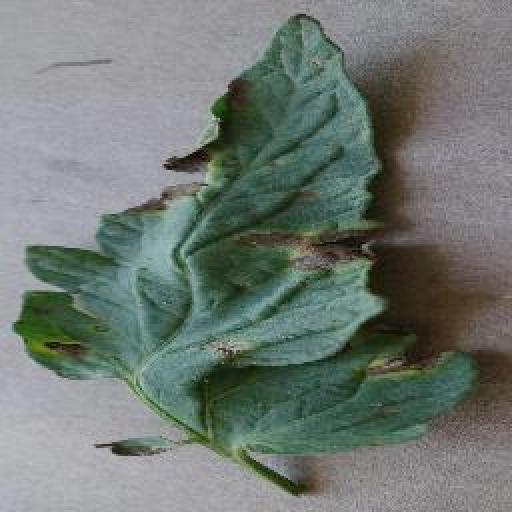disease_tomato: (16, 13, 482, 455)
